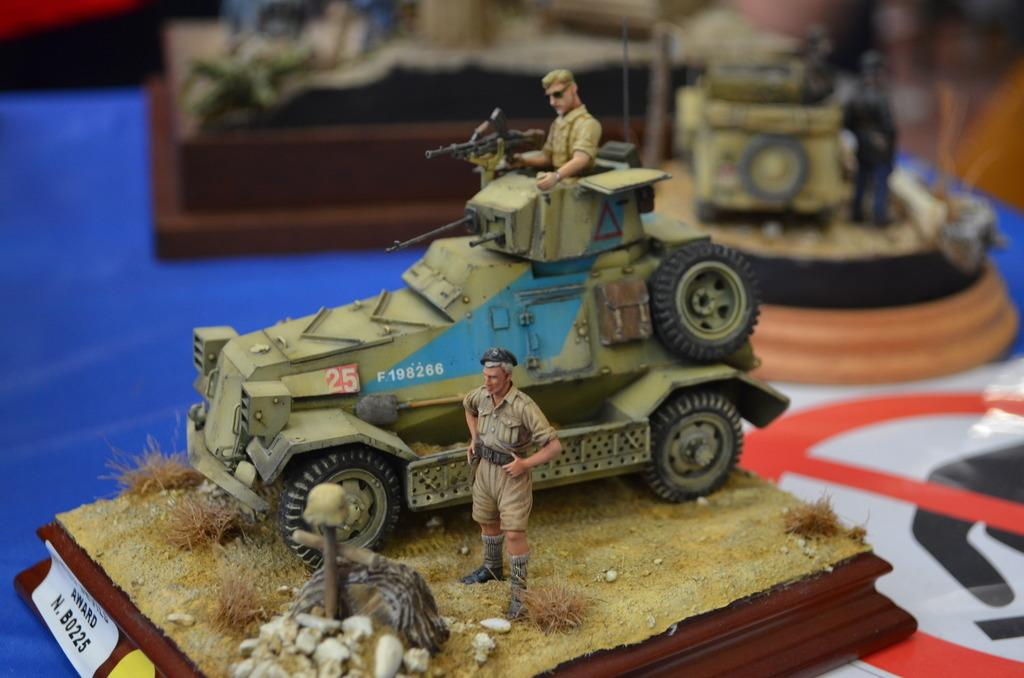non-violence: (462, 347, 560, 621), (837, 49, 901, 230), (511, 70, 603, 186), (803, 25, 837, 104)
weapon: (426, 107, 545, 163), (387, 202, 475, 250), (464, 225, 512, 245)
